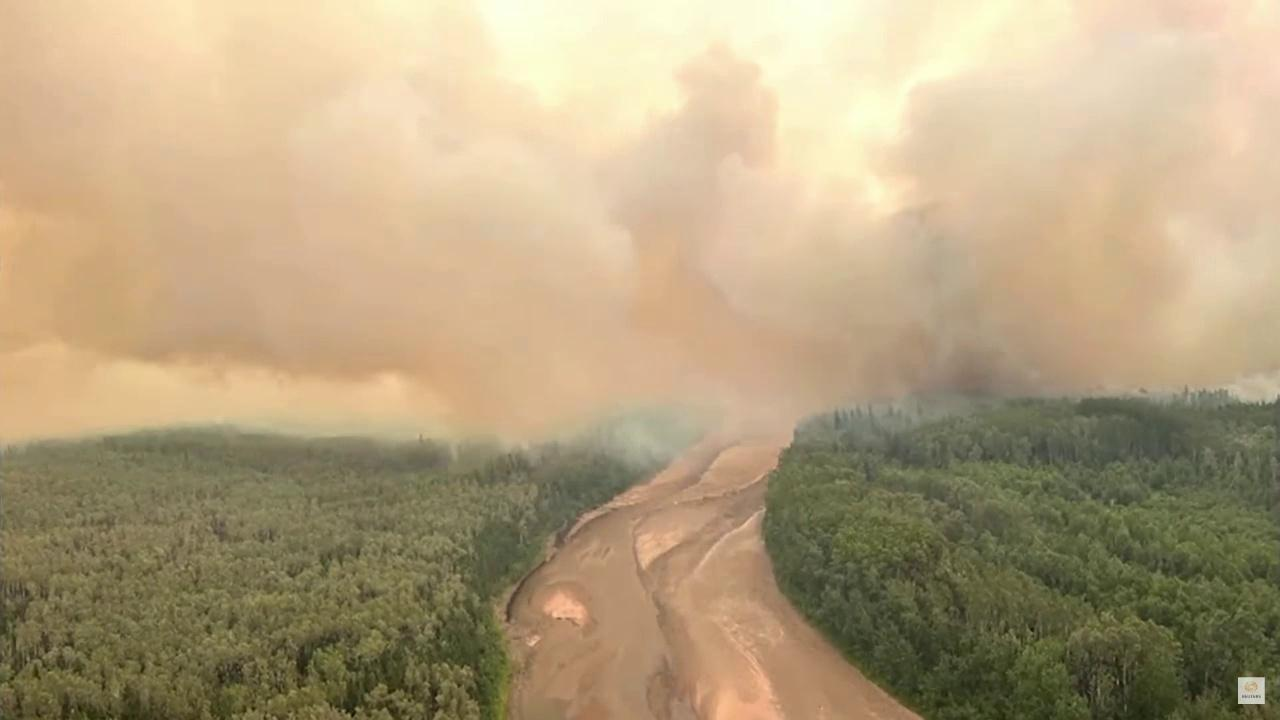smoke: (0, 0, 1280, 477)
